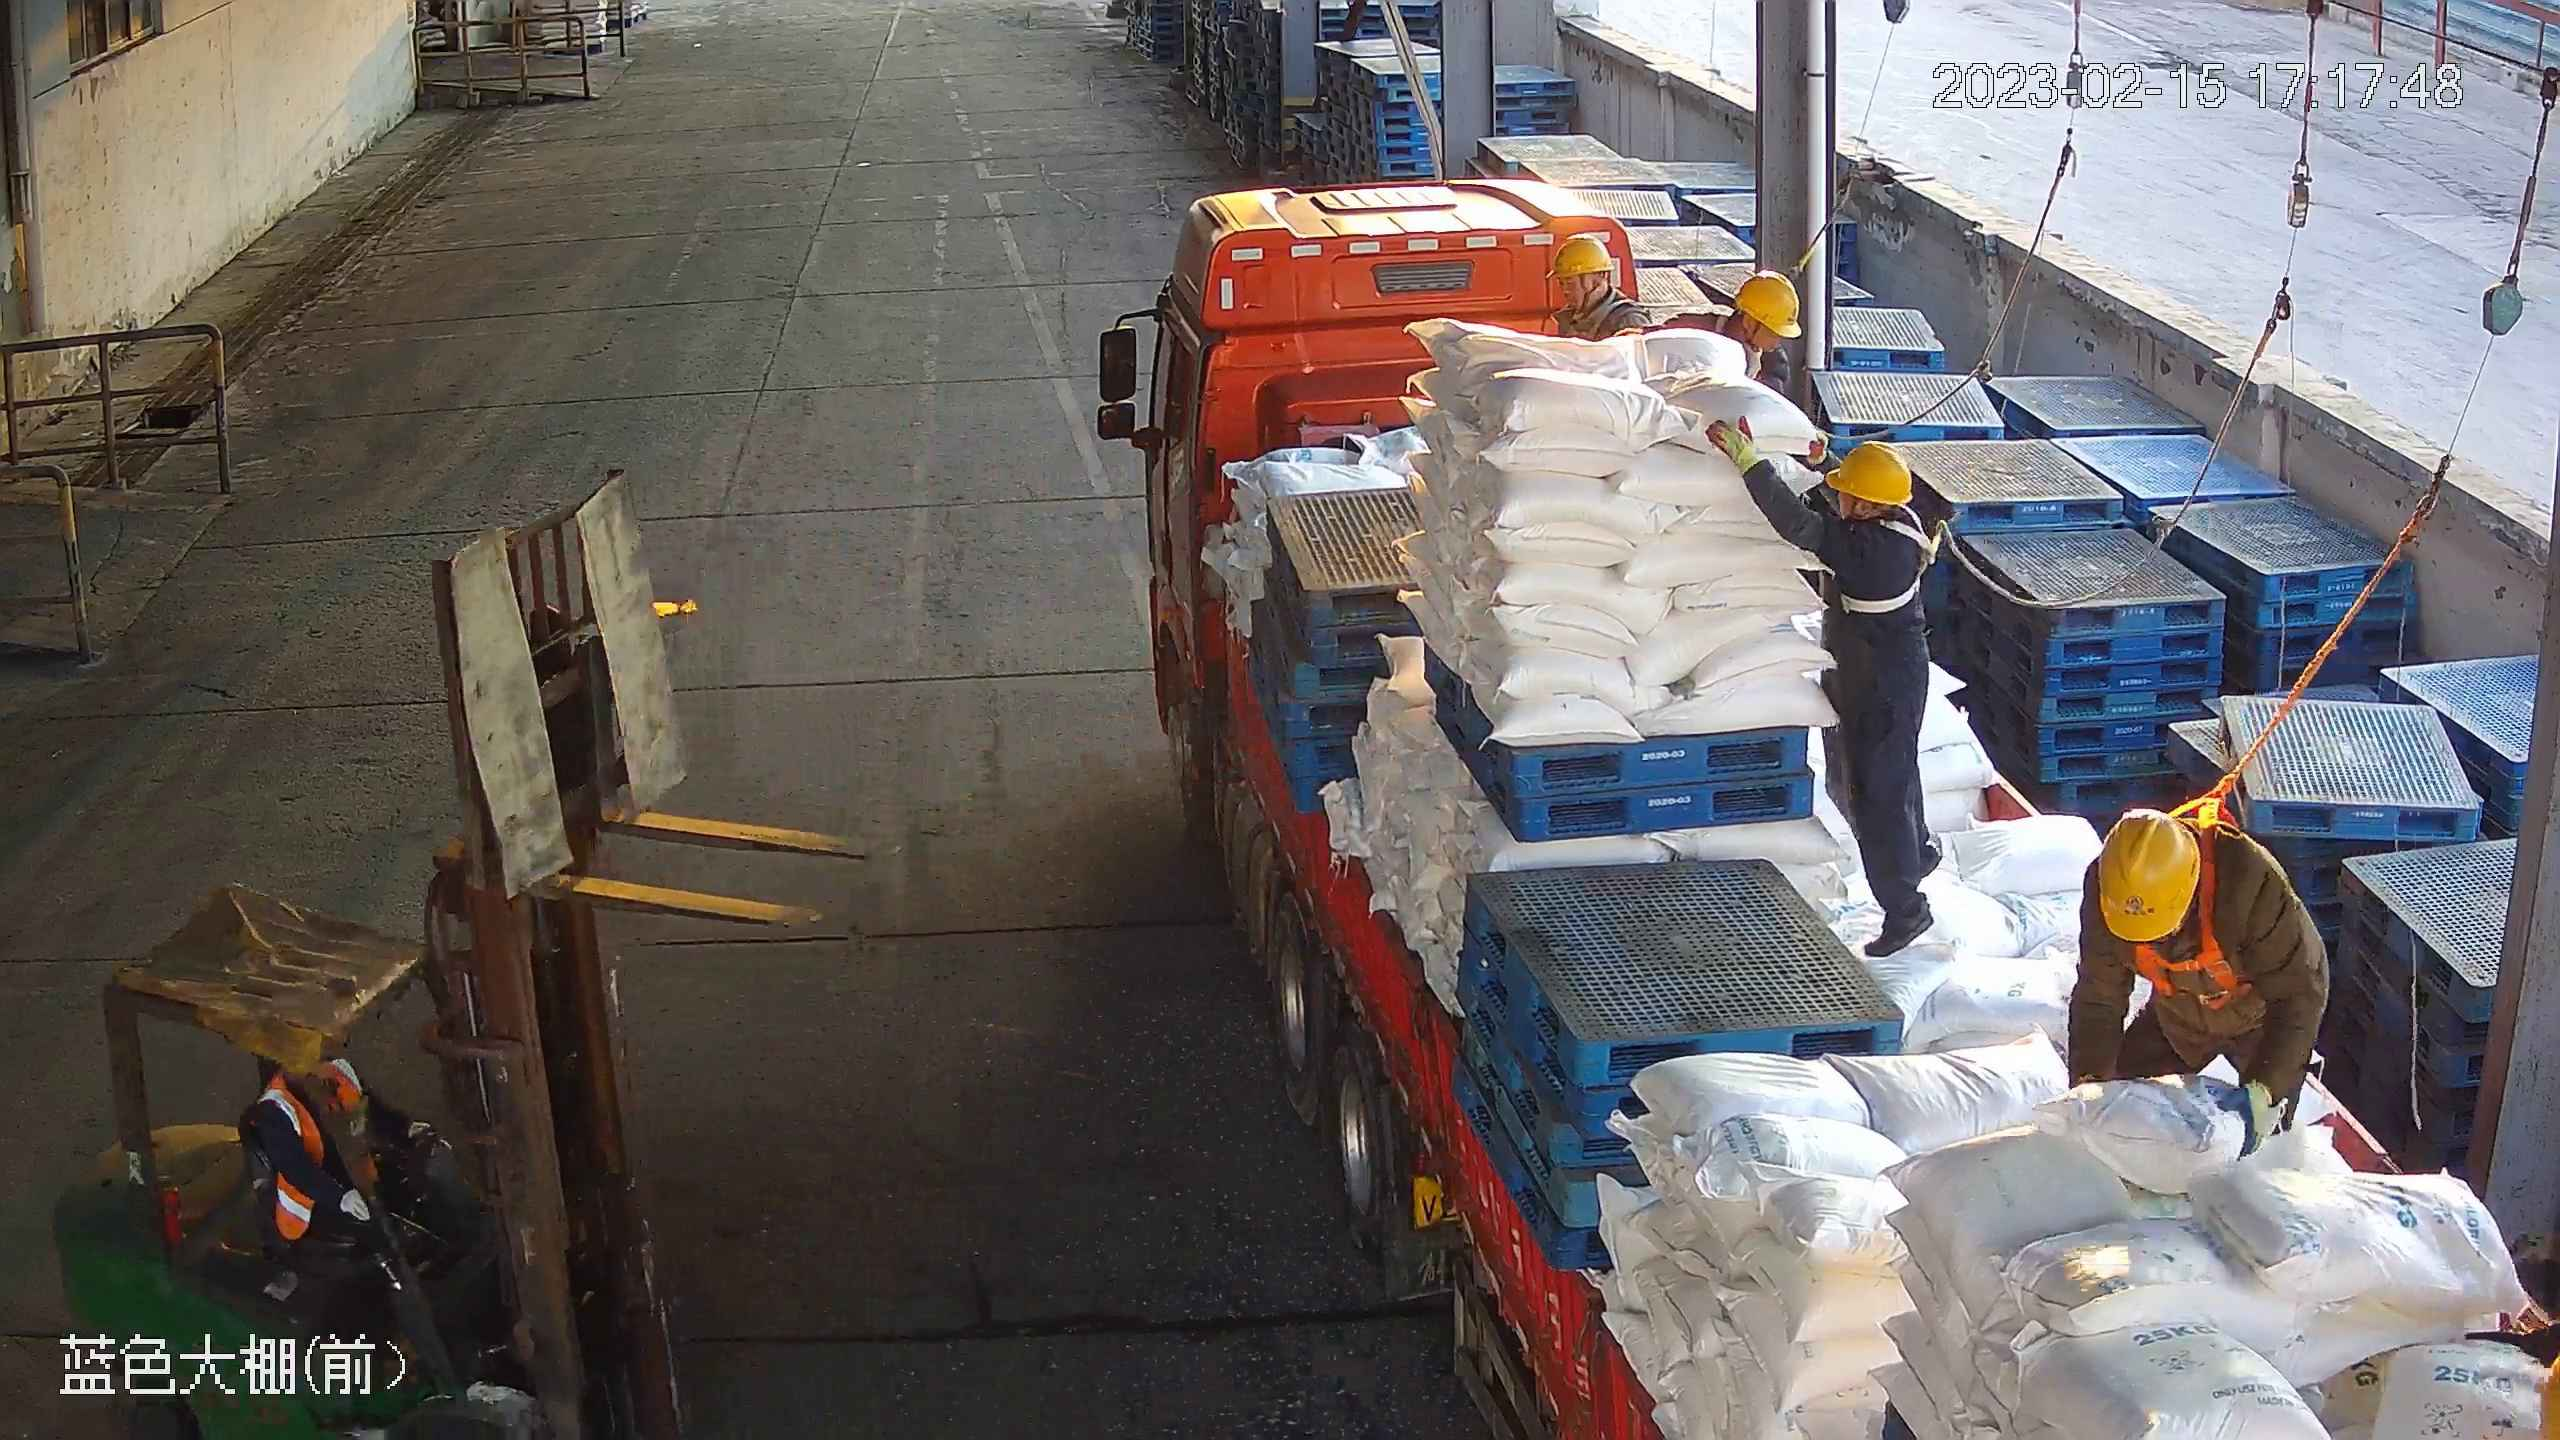belt: (1851, 515, 1970, 629), (2133, 924, 2240, 1014)
head: (2074, 811, 2279, 965), (1788, 434, 1935, 601)
helmet: (2092, 808, 2200, 944), (1827, 436, 1920, 515), (1730, 264, 1806, 336), (1546, 225, 1620, 283)
people: (2062, 801, 2339, 1164), (1762, 439, 1946, 958)
truck: (1093, 176, 2560, 1440)
